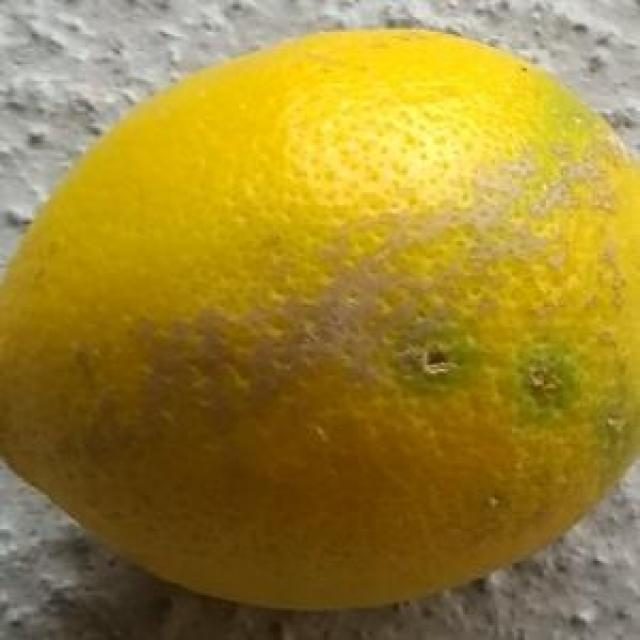lemon: (4, 26, 640, 614)
